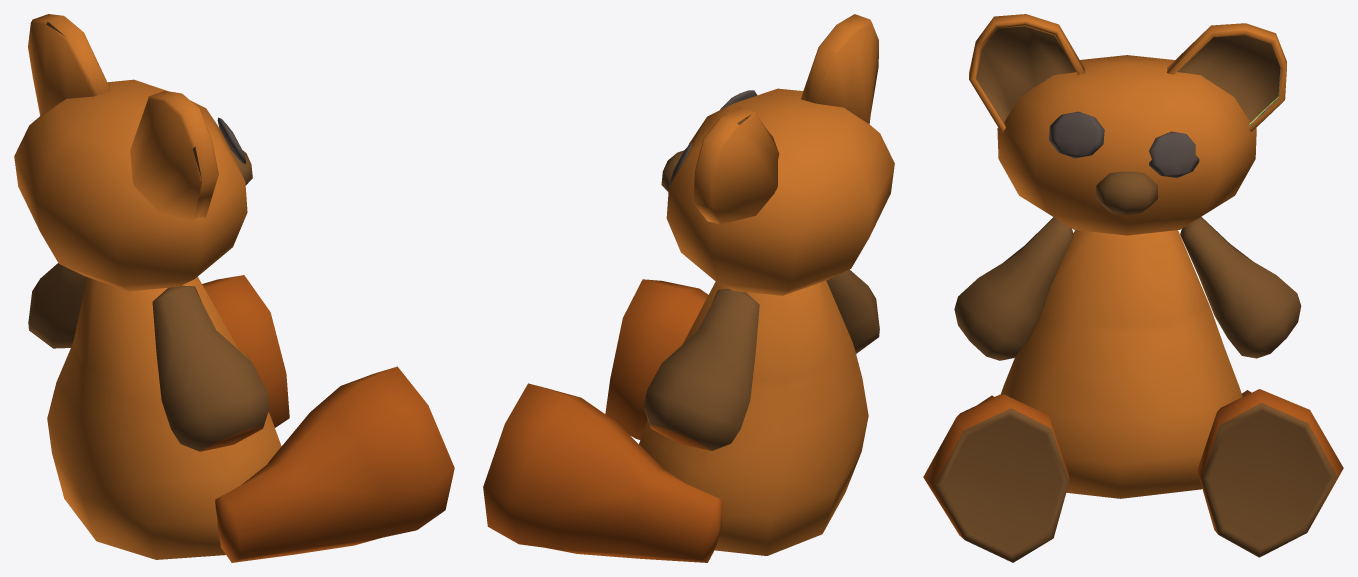
The model's file is SM_Bear_2.fbx.
3 views of the same model, side by side, from view 1: azimuth 30°, elevation 25°; view 2: azimuth 150°, elevation 25°; view 3: azimuth 270°, elevation 25° (orthographic). The views are drawn at different scales.
Visible parts, largest first — view 1: SM_Bear_2_LOD0; view 2: SM_Bear_2_LOD0; view 3: SM_Bear_2_LOD0.
Part boxes in pixels (left/top/right/bottom): SM_Bear_2_LOD0: left=14, top=14, right=454, bottom=562; SM_Bear_2_LOD0: left=483, top=14, right=894, bottom=562; SM_Bear_2_LOD0: left=923, top=14, right=1343, bottom=562.
Size of the model in its own units: 21.62 by 26.27 by 31.14.
Materials: 1 (1 with a texture image).
